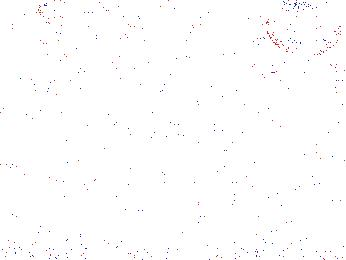moon jellyfish: (109, 1, 194, 97), (46, 50, 144, 111), (38, 9, 136, 55), (238, 26, 316, 81), (266, 2, 342, 58)
